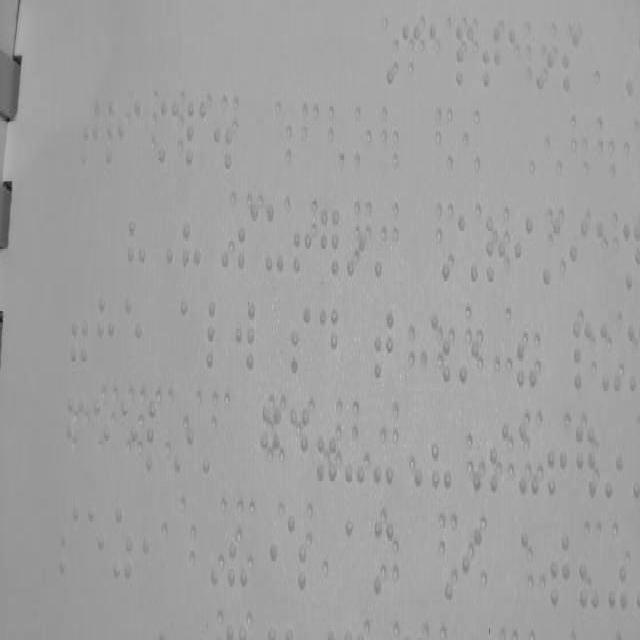braiile: (234, 192, 258, 279), (372, 306, 396, 392), (259, 398, 283, 482), (287, 400, 311, 484), (79, 90, 103, 172), (184, 95, 208, 176), (598, 316, 622, 396), (122, 290, 144, 377), (144, 392, 166, 479), (372, 512, 394, 599), (96, 288, 118, 374), (290, 301, 314, 379), (204, 293, 226, 378), (461, 520, 483, 604), (452, 20, 478, 91), (235, 296, 258, 376), (156, 93, 180, 169), (485, 208, 507, 290), (58, 499, 80, 581), (264, 198, 284, 286), (572, 316, 594, 396), (569, 212, 589, 299), (132, 88, 152, 174), (91, 394, 113, 472), (84, 499, 106, 577), (512, 212, 534, 290), (549, 526, 571, 604), (105, 94, 126, 174), (318, 302, 339, 382), (120, 394, 140, 476), (506, 23, 528, 97), (517, 420, 537, 500), (481, 24, 503, 96), (180, 294, 200, 372), (67, 393, 87, 469), (400, 21, 422, 90), (490, 422, 510, 494), (596, 219, 614, 297), (426, 16, 446, 86), (562, 28, 582, 96)
